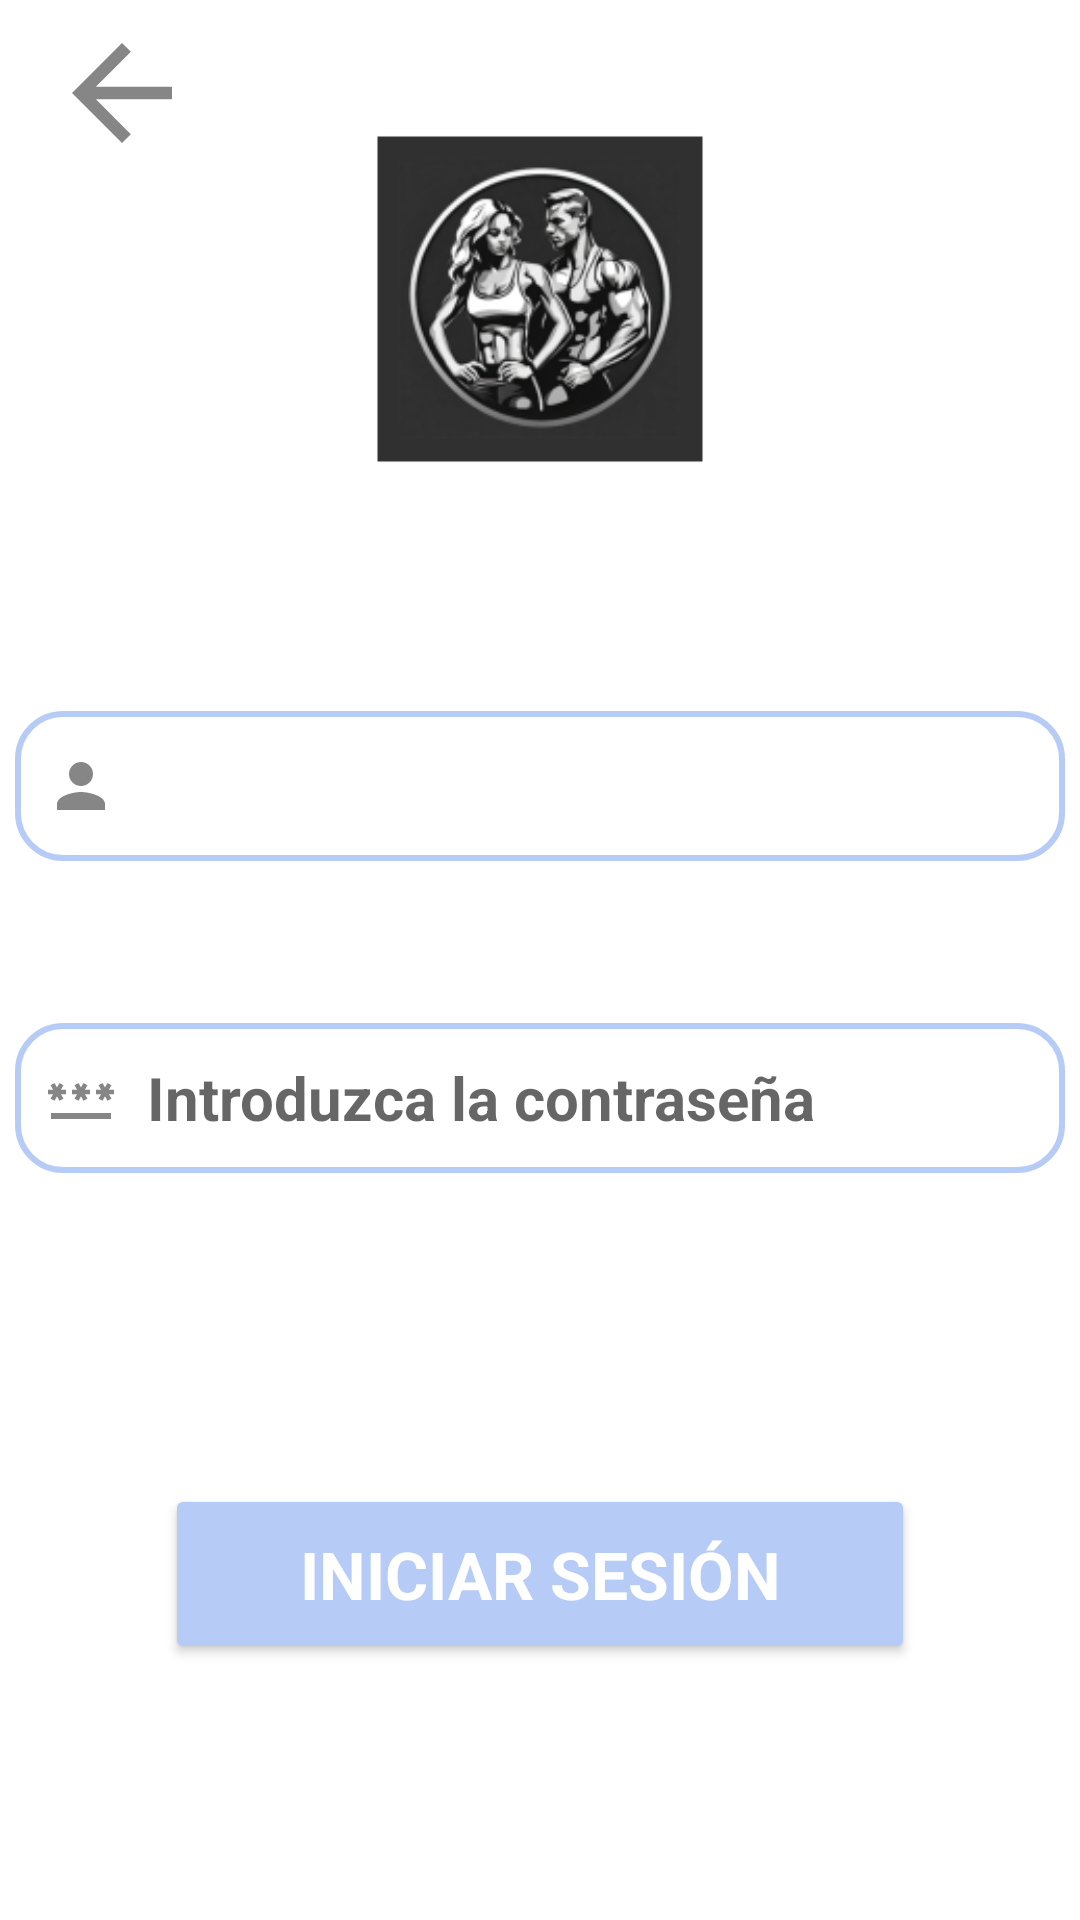

Named icons in this screenshot (1080 x 1920) and their bounding boxes, bbox(x1, y1, x2, y2):
Atrás: bbox(72, 43, 172, 143)
